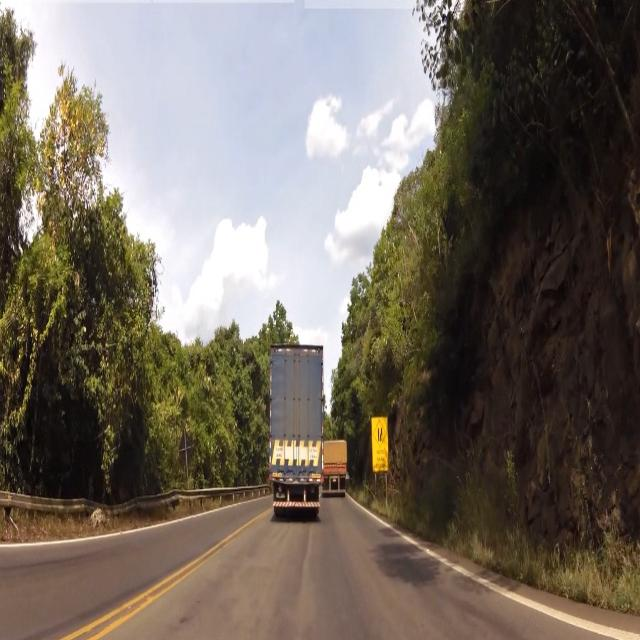A-21e: (374, 416, 388, 448)
